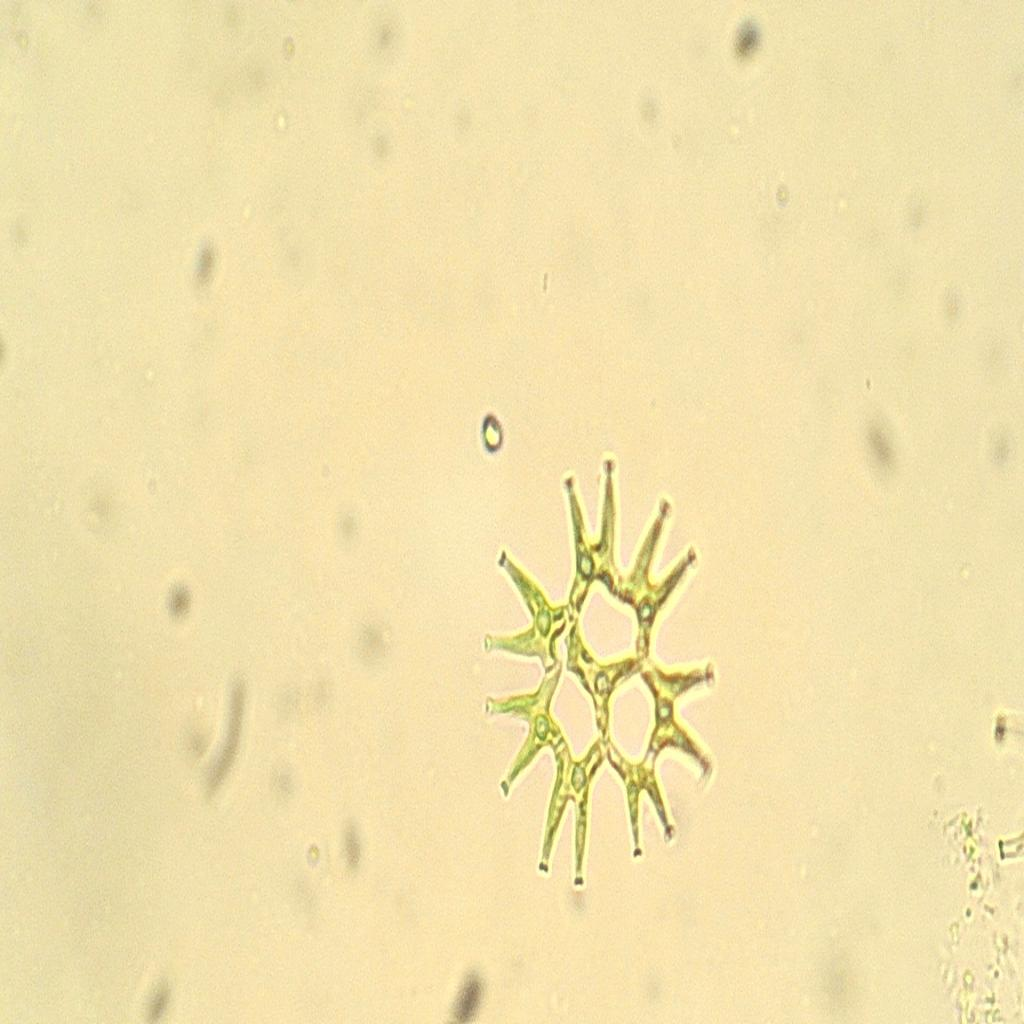Pediastrum_75T: (468, 447, 736, 908)
